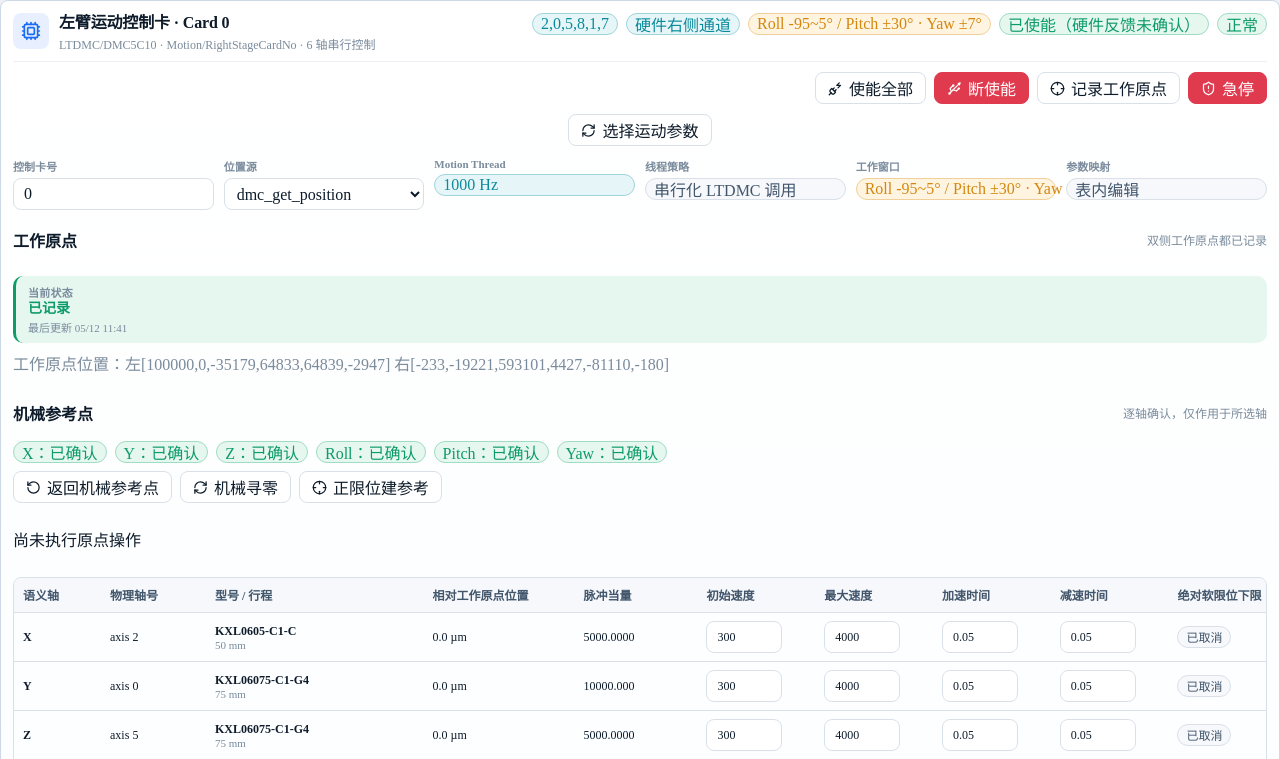
Test: 机械参考点选轴 › 限位建立的参考点在完成信息中明确标识
Step 1. Click the button "正限位建参考" → (370, 487), box [299, 471, 442, 503]
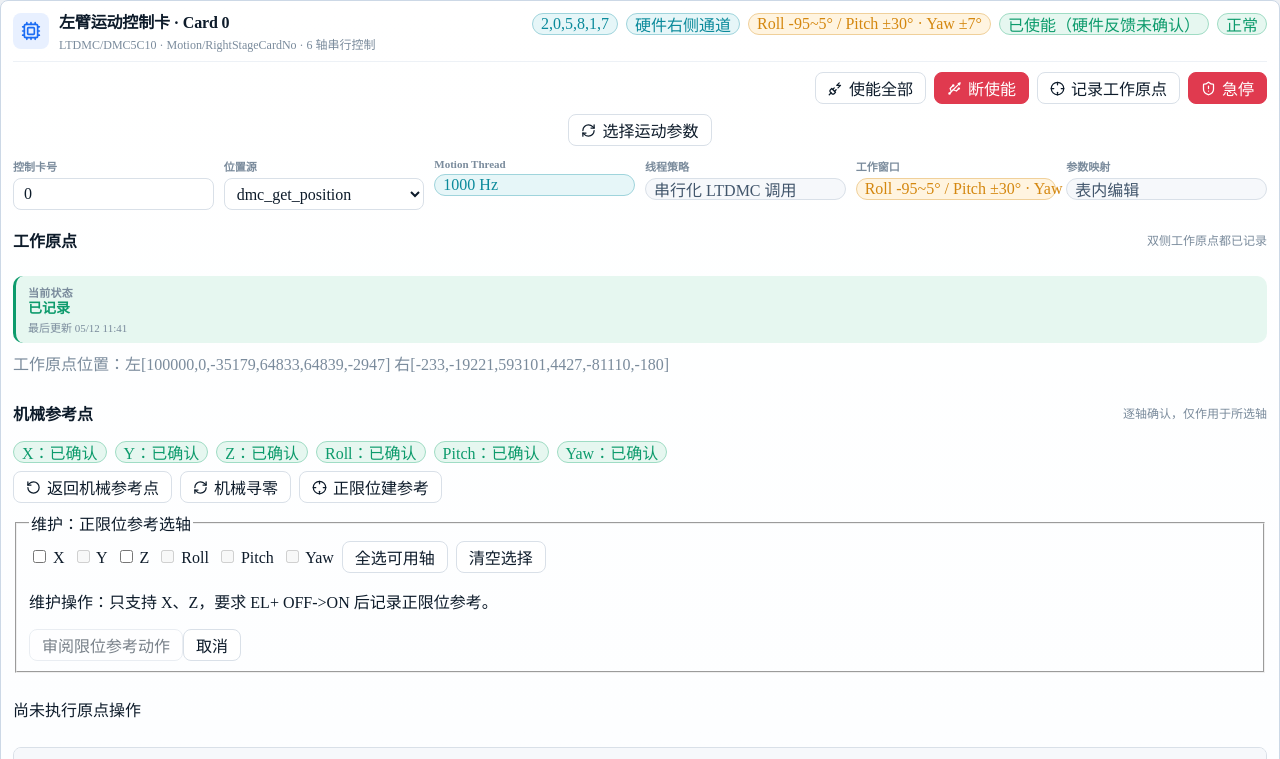
Step 2. Click the checkbox labelled "X" → (40, 556), box [33, 550, 46, 563]
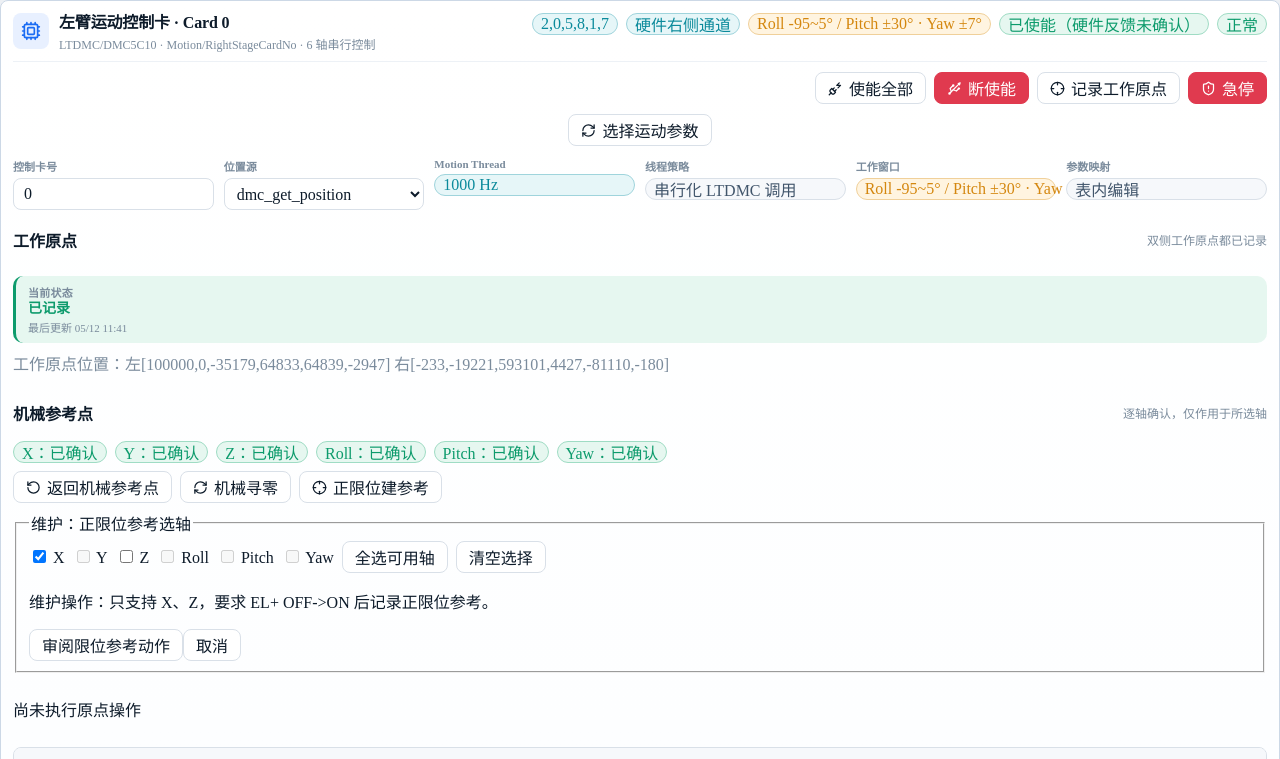
Step 3. Click the checkbox labelled "Z" → (126, 556), box [120, 550, 132, 563]
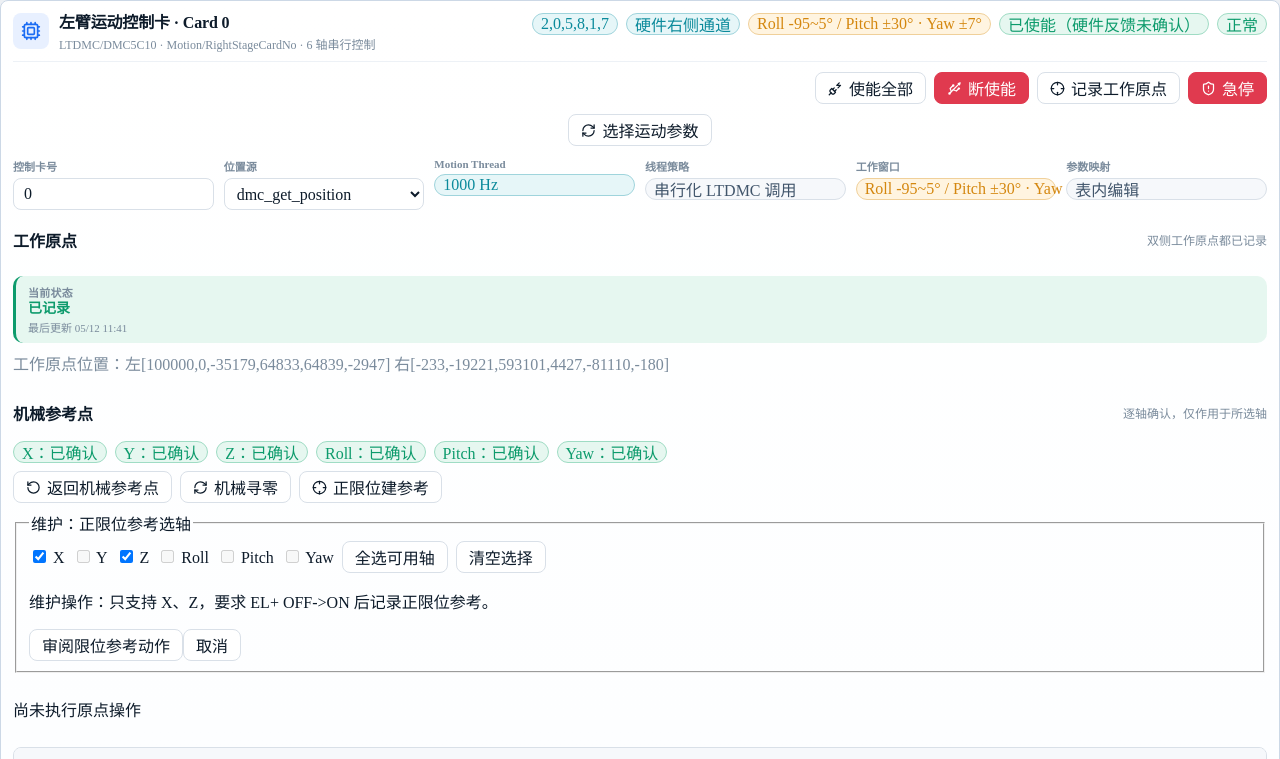
Step 4. Click the button "审阅限位参考动作" → (106, 645), box [29, 629, 183, 661]
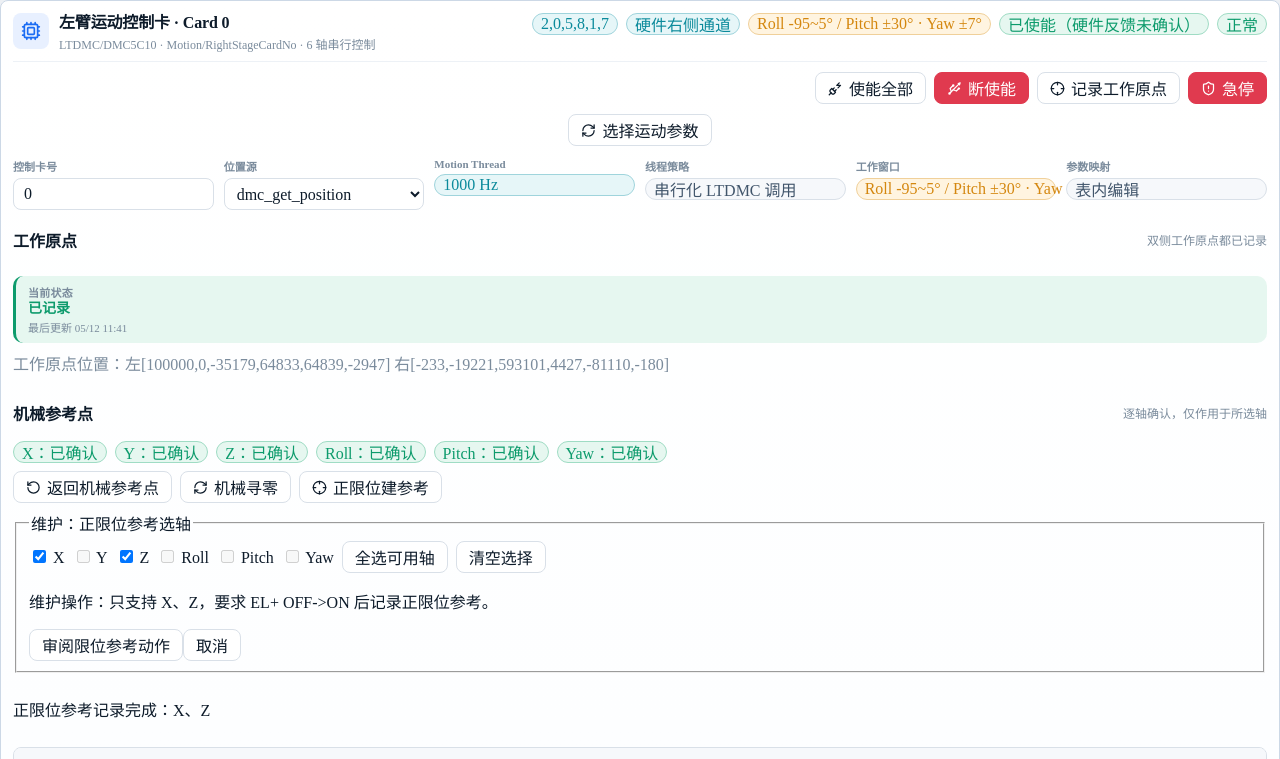
Expected: the message named "左臂原点操作状态" reads "正限位参考记录完成：X、Z", [13, 702, 210, 719]
